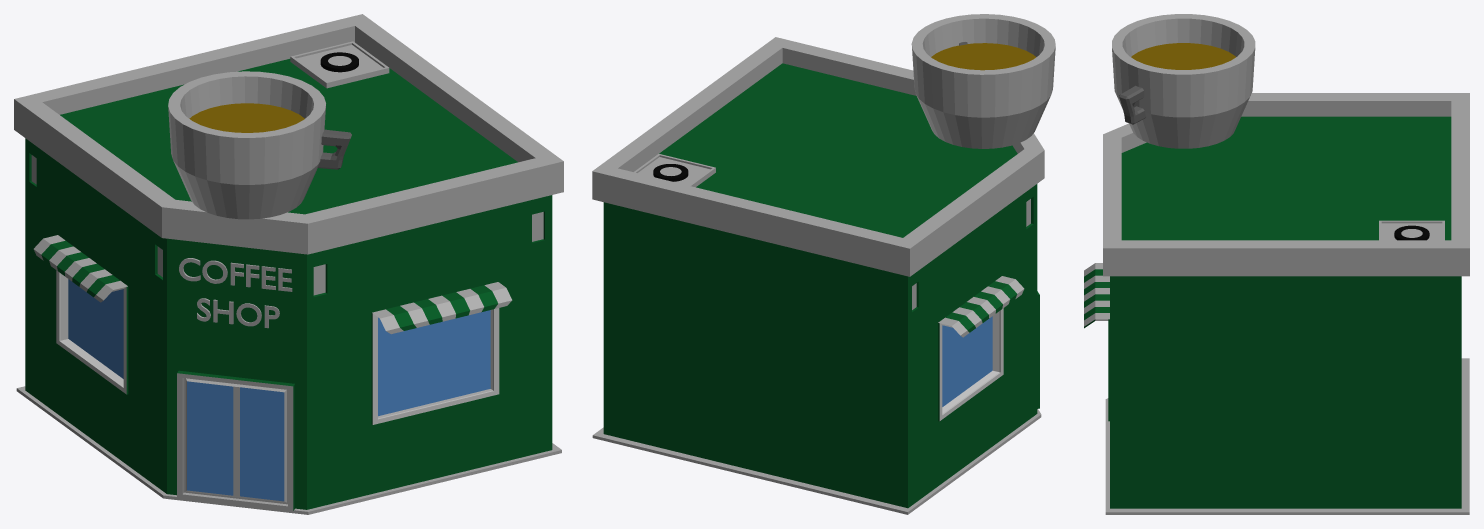
The model's file is coffee_shop.glb.
3 views of the same model, side by side, from view 1: azimuth 30°, elevation 25°; view 2: azimuth 150°, elevation 25°; view 3: azimuth 270°, elevation 25° (orthographic). The views are drawn at different scales.
Visible parts, largest first — view 1: COFFEE SHOP_Material.019_0; view 2: COFFEE SHOP_Material.019_0; view 3: COFFEE SHOP_Material.019_0.
Part boxes in pixels (x1=…): COFFEE SHOP_Material.019_0: x1=14, y1=14, x2=563, y2=514; COFFEE SHOP_Material.019_0: x1=592, y1=14, x2=1055, y2=514; COFFEE SHOP_Material.019_0: x1=1084, y1=14, x2=1469, y2=514.
Size of the model in its own units: 1.63 by 1.62 by 1.63.
1 material, 1 textured.
